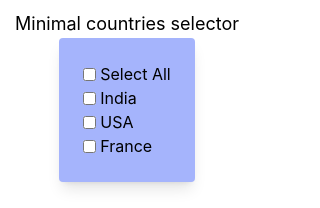
Test: App component tests › selecting all countries checkboxes checks select all checkbox
What coordinates should you click on to do the following:
click the checkbox labelled "India"
I would click on:
 (90, 98)
Its box is [83,92,96,104].
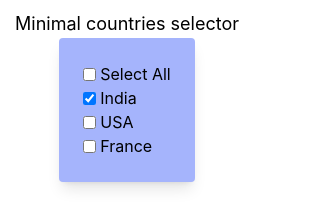
What coordinates should you click on to do the following:
click the checkbox labelled "USA"
I would click on:
 (90, 122)
Its box is [83,116,96,128].
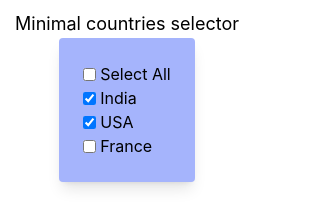
What coordinates should you click on to do the following:
click the checkbox labelled "France"
I would click on:
 (90, 146)
Its box is [83,140,96,152].
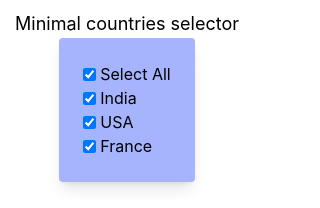
Now the checkbox labelled "Select All" is checked, box [83,68,96,80]
